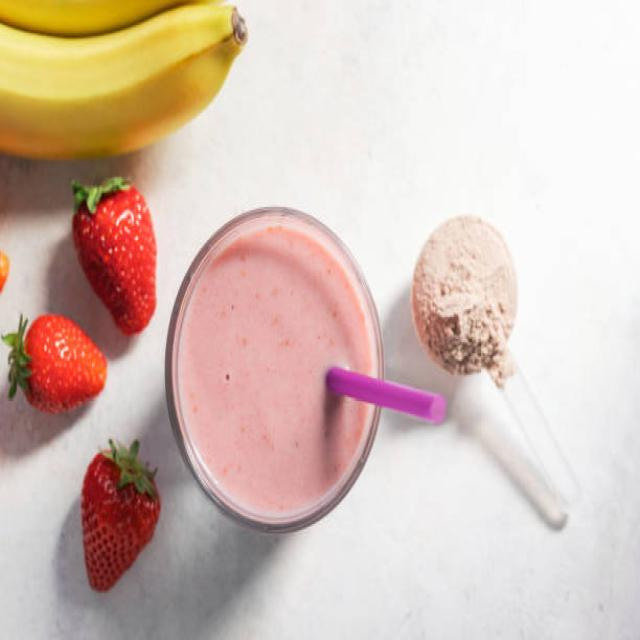Healthy Fruit: (73, 185, 159, 336), (81, 452, 161, 595), (19, 314, 106, 415)
